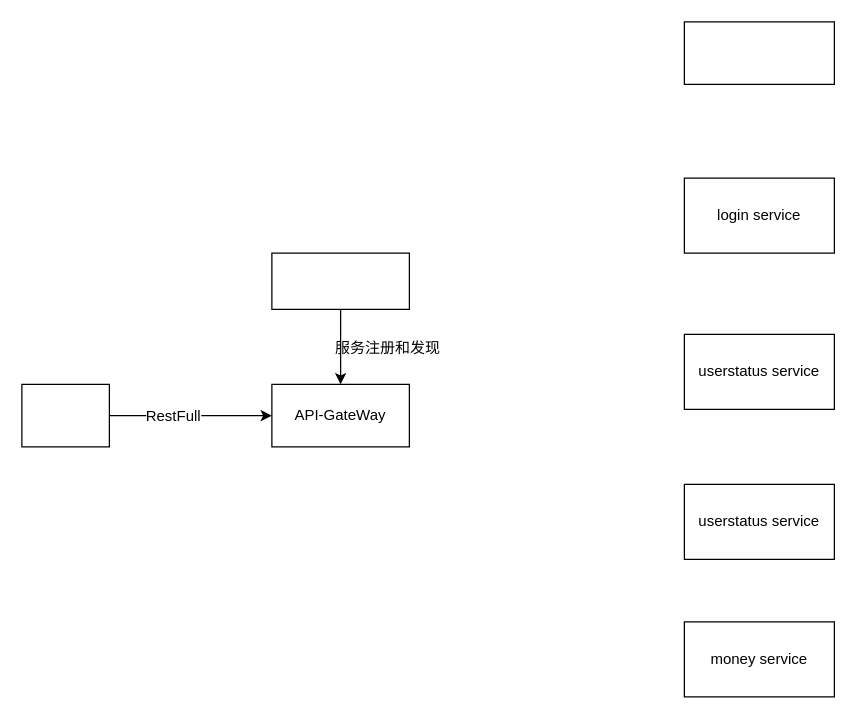
This 856x719 diagram has some shape labels left out. Here are the shapes that lost their labels. From the top down, the centre of each, then its label:
point 758,52: account service
point 340,280: consul
point 65,415: app
